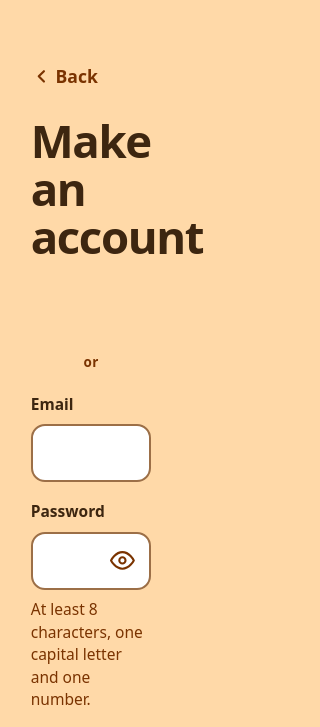
Test: the routes a guest cannot use, followed through the real route table › shows Settings without the guest card and with Change password after the guest makes an account by email
This screenshot has width=320, height=727.
Expected: the heading "Make an account" is shown, [31,101,151,290]
Step 1. Type "marko@example.com" into the field labelled "Email" → (91, 453), box [31,424,151,482]
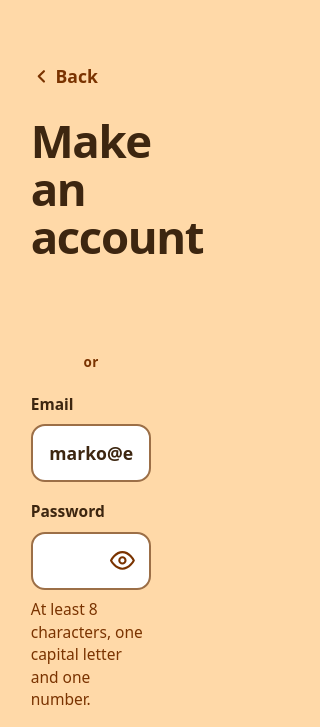
Step 2. Type "Passw0rdOk" into the password field labelled "Password" → (91, 561), box [31,532,151,590]
(page scrolled)
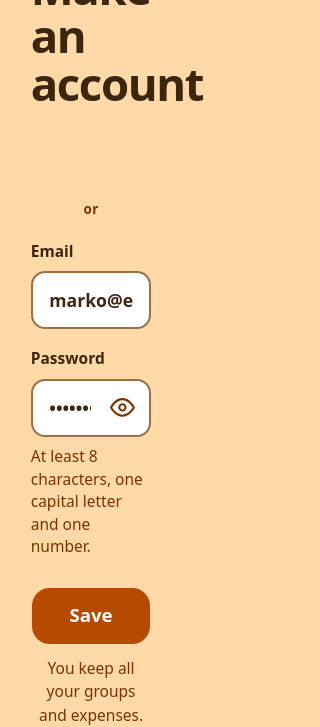
Step 3. Click the button "Save" → (91, 616), box [31,587,151,645]
(page scrolled)
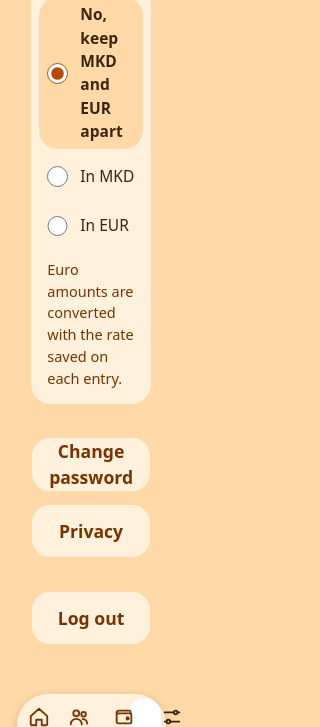
Result: the link "Change password" is shown at [31,437,151,492]
